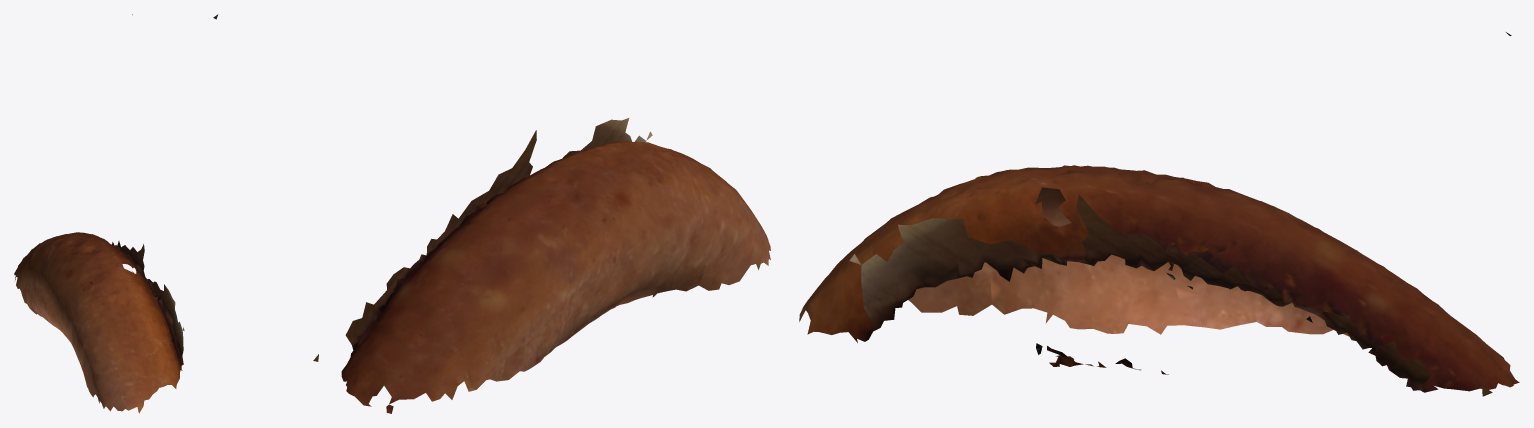
Rendered from kielbasa_simplified.fbx.
3 views of the same model, side by side, from view 1: azimuth 30°, elevation 25°; view 2: azimuth 150°, elevation 25°; view 3: azimuth 270°, elevation 25° (orthographic). The views are drawn at different scales.
Parts seen in each view (by area): view 1: Model; view 2: Model; view 3: Model.
Boxes of the visible parts, bbox=[...] form: Model: bbox=[14, 14, 184, 413]; Model: bbox=[213, 14, 770, 413]; Model: bbox=[799, 32, 1519, 396].
Size of the model in its own units: 47.21 by 54.6 by 77.09.
Materials: 1 (1 with a texture image).
